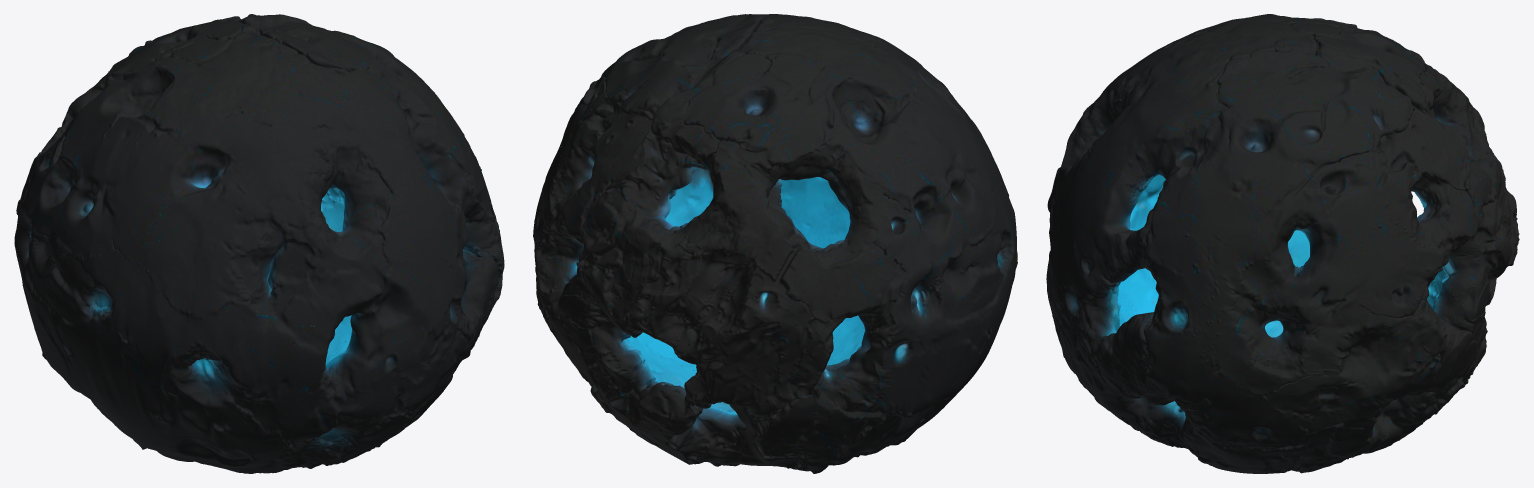
File: asteroid.glb
The picture shows the model from 3 angles, left to right: view 1: azimuth 30°, elevation 25°; view 2: azimuth 150°, elevation 25°; view 3: azimuth 270°, elevation 25°; orthographic projection. The views are drawn at different scales.
Bounding box in the file's own units: 1.9 × 1.73 × 1.84.
1 material, 1 textured.
